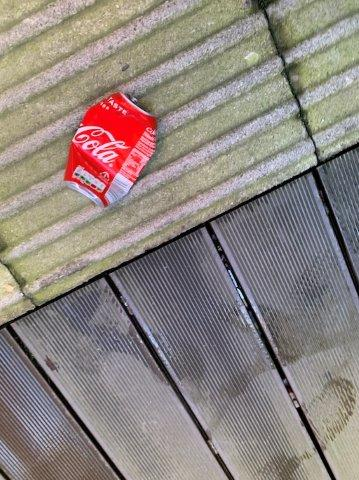kaleng: (64, 93, 156, 207)
